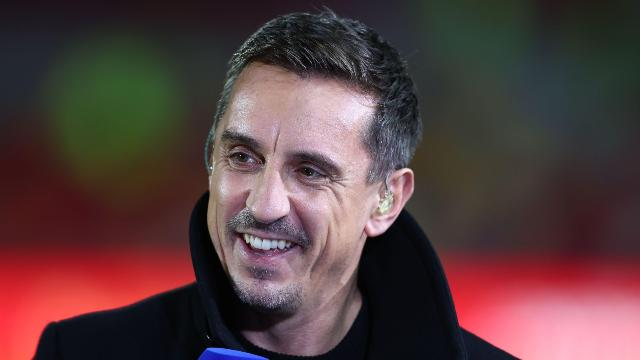chin: (246, 272, 272, 286)
crows_feet: (328, 176, 348, 198), (218, 146, 230, 170)
frown_line: (270, 130, 282, 160)
gummy_smile: (290, 198, 308, 226)
masseter: (314, 231, 332, 275), (213, 212, 229, 258)
